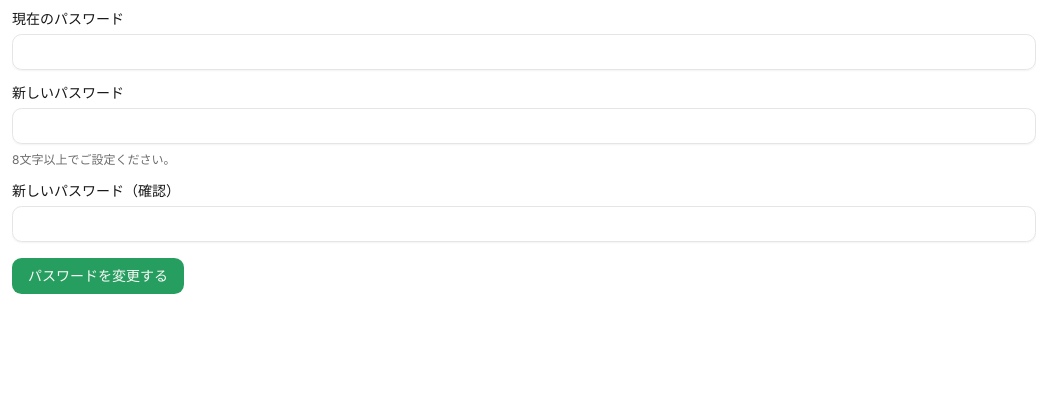
Scenario: PasswordChangeForm › shows Zod errors for all required fields on empty submit
The width and height of the screenshot is (1048, 395).
Click the button "パスワードを変更する". click: x=98, y=276
box: [12,258,184,294]
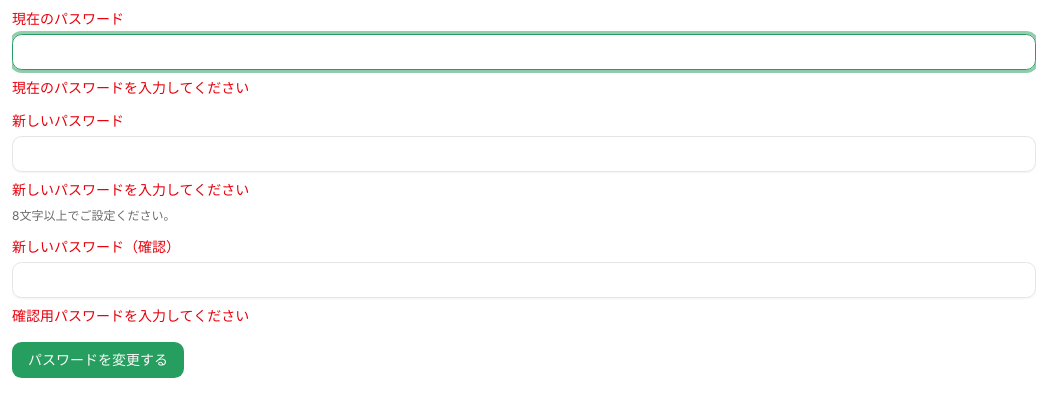
Check: the text "現在のパスワードを入力してください" is shown, box [12,79,249,96]
Check: the text "新しいパスワードを入力してください" is shown, box [12,181,249,198]
Check: the text "確認用パスワードを入力してください" is shown, box [12,307,249,324]
